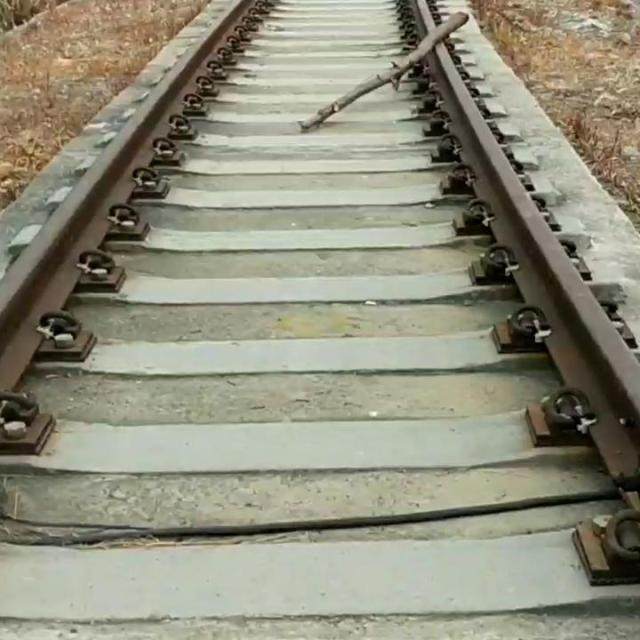rail: (1, 1, 296, 566), (393, 1, 640, 640)
